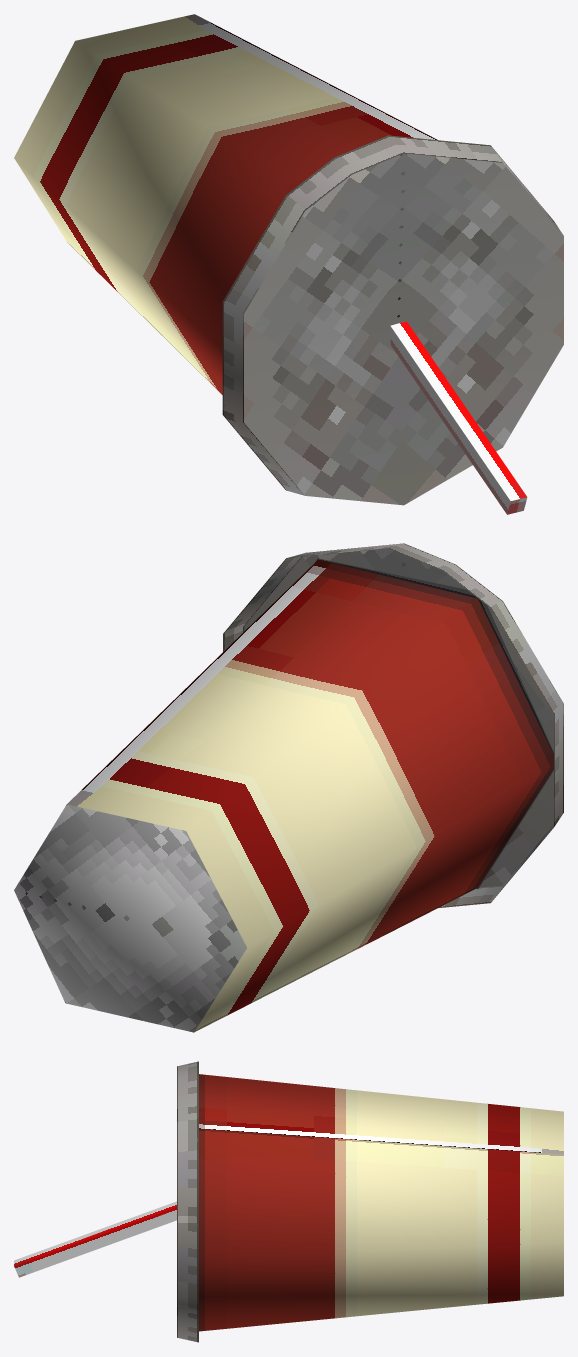
File: ma_cup_single_closed_static_LOD1.obj
3 renders of one model, top to bottom at view 1: azimuth 30°, elevation 25°; view 2: azimuth 150°, elevation 25°; view 3: azimuth 270°, elevation 25°, orthographic. The views are drawn at different scales.
Visible parts, largest first — view 1: mtl_cups; view 2: mtl_cups; view 3: mtl_cups.
Boxes of the visible parts, x1=… form: mtl_cups: x1=14, y1=14, x2=563, y2=514; mtl_cups: x1=14, y1=543, x2=563, y2=1032; mtl_cups: x1=14, y1=1061, x2=563, y2=1342.
Bounding box in the file's own units: 9.74 × 10.24 × 19.77.
